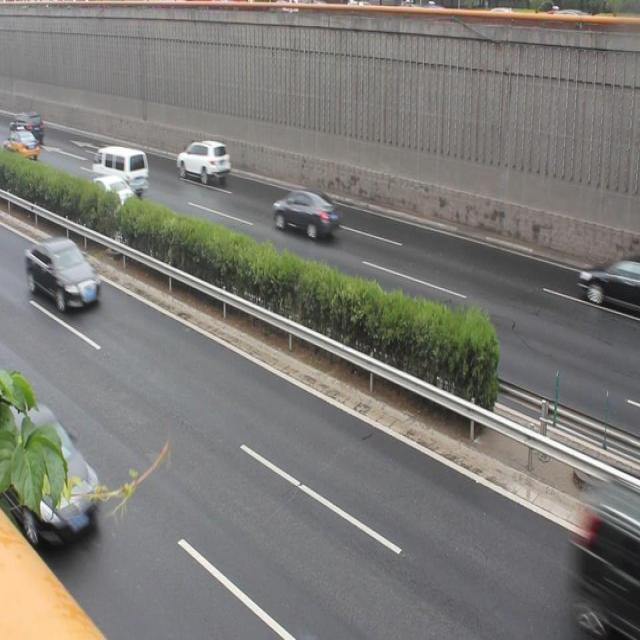car: (0, 388, 99, 542), (26, 236, 100, 308), (578, 252, 640, 312), (272, 187, 338, 241), (79, 174, 134, 224), (177, 138, 230, 186)
truck: (91, 146, 148, 193)
